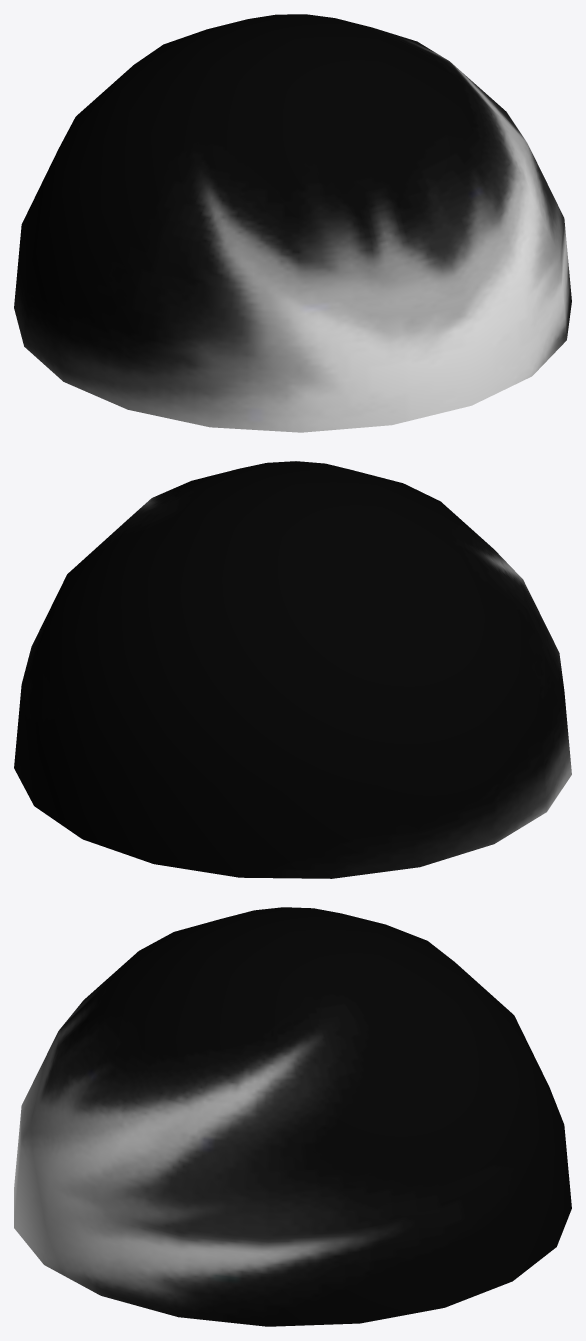
File: 0041_HT_FX_GG_SK_03_yuan.glb
3 views of the same model, one above another, from view 1: azimuth 30°, elevation 25°; view 2: azimuth 150°, elevation 25°; view 3: azimuth 270°, elevation 25° (orthographic).
Size of the model in its own units: 2.2 by 1.2 by 2.19.
Materials: 1 (1 with a texture image).
